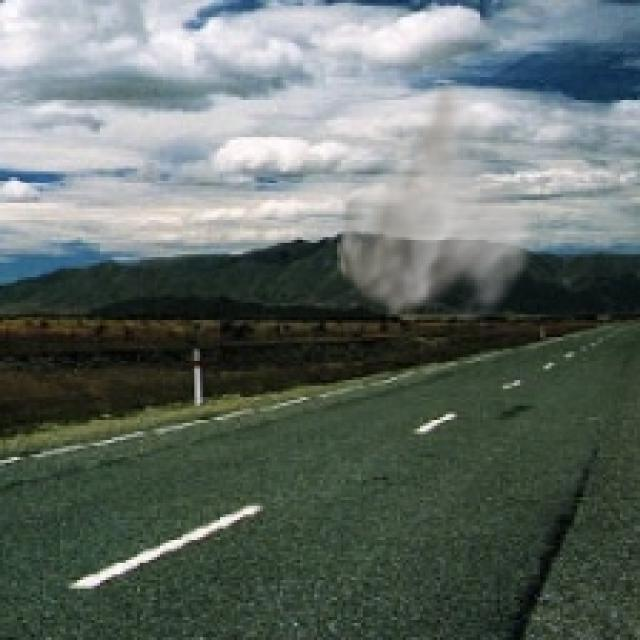smoke: (317, 74, 546, 340)
